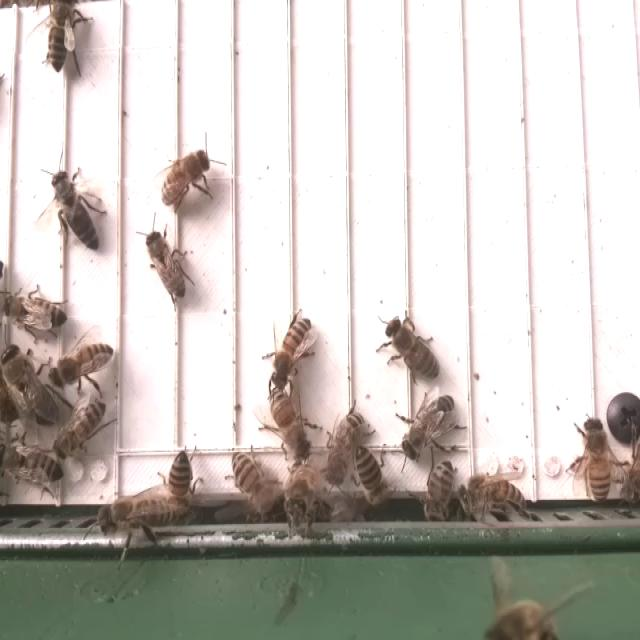Drone: (0, 340, 61, 435)
Worker: (49, 166, 102, 257), (381, 312, 441, 385), (400, 395, 461, 464), (321, 409, 368, 494), (51, 396, 110, 461), (0, 288, 71, 339), (226, 450, 277, 520), (143, 224, 187, 304), (267, 389, 311, 468), (47, 340, 115, 391), (156, 147, 210, 210), (271, 313, 314, 391), (578, 410, 613, 505), (0, 444, 68, 491), (459, 468, 527, 515), (354, 445, 394, 516), (422, 459, 457, 522)
